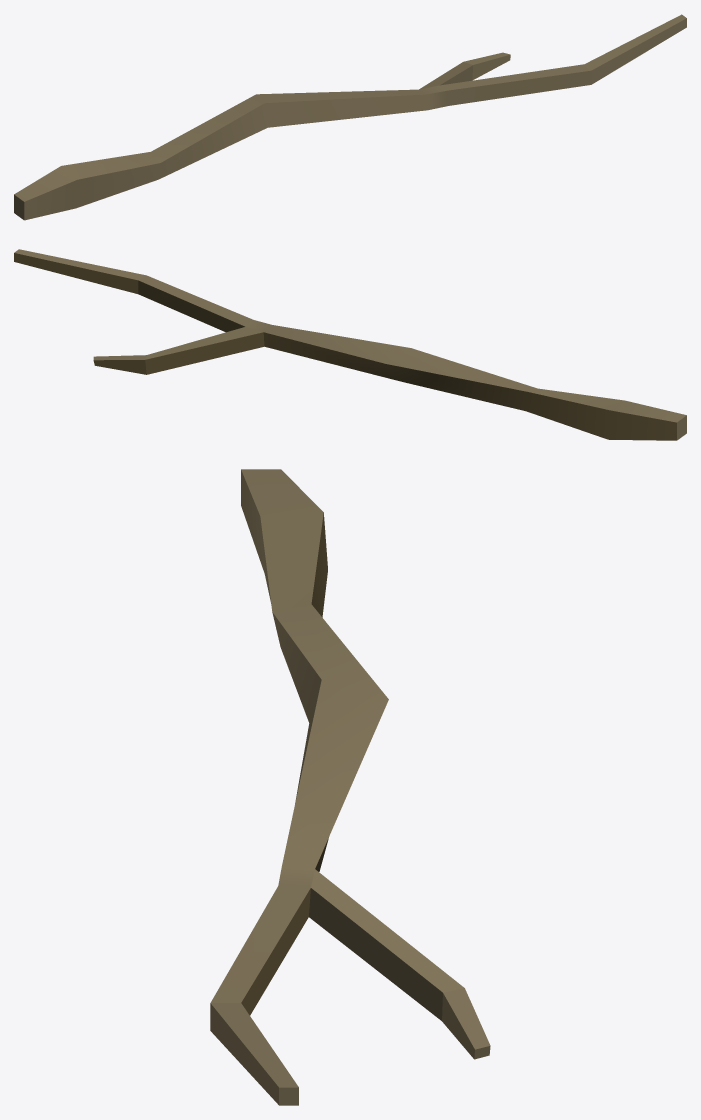
Rendered from Stick.fbx.
3 views of the same model, one above another, from view 1: azimuth 30°, elevation 25°; view 2: azimuth 150°, elevation 25°; view 3: azimuth 270°, elevation 25° (orthographic). The views are drawn at different scales.
Parts seen in each view (by area): view 1: geo_Stick; view 2: geo_Stick; view 3: geo_Stick.
Part boxes in pixels (x1,y1,x2,y2): geo_Stick: (14, 14, 686, 220); geo_Stick: (14, 249, 686, 440); geo_Stick: (210, 469, 490, 1105).
Size of the model in its own units: 23 by 1.9 by 4.24.
